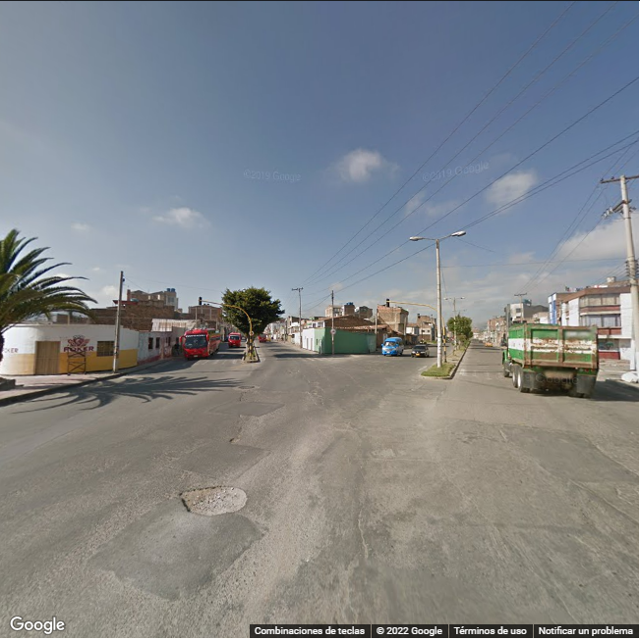D00: (488, 520, 585, 626), (355, 499, 376, 559)
D40: (178, 480, 242, 516)
